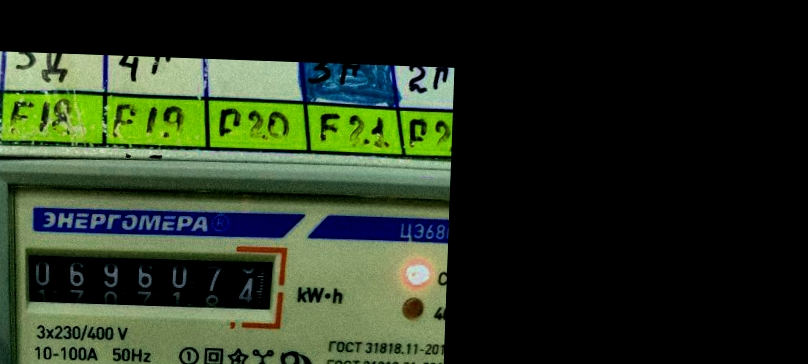0: (32, 256, 52, 286), (168, 260, 188, 288)
4: (235, 275, 254, 303)
6: (135, 259, 154, 288), (66, 259, 85, 286)
7: (203, 262, 223, 292)
9: (100, 260, 119, 288)
screen: (10, 233, 292, 330)
